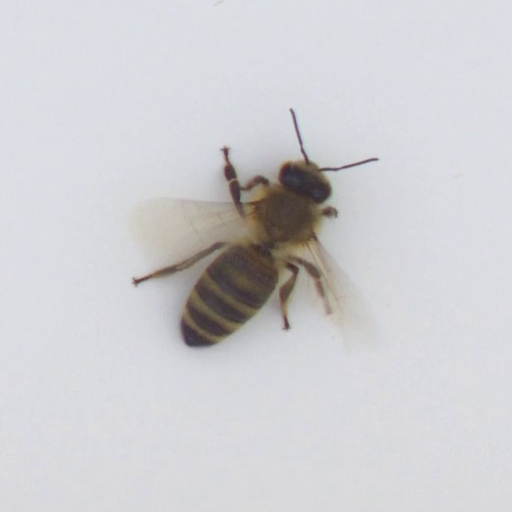Bee: (177, 157, 328, 346)
Thorax: (245, 182, 319, 242)
